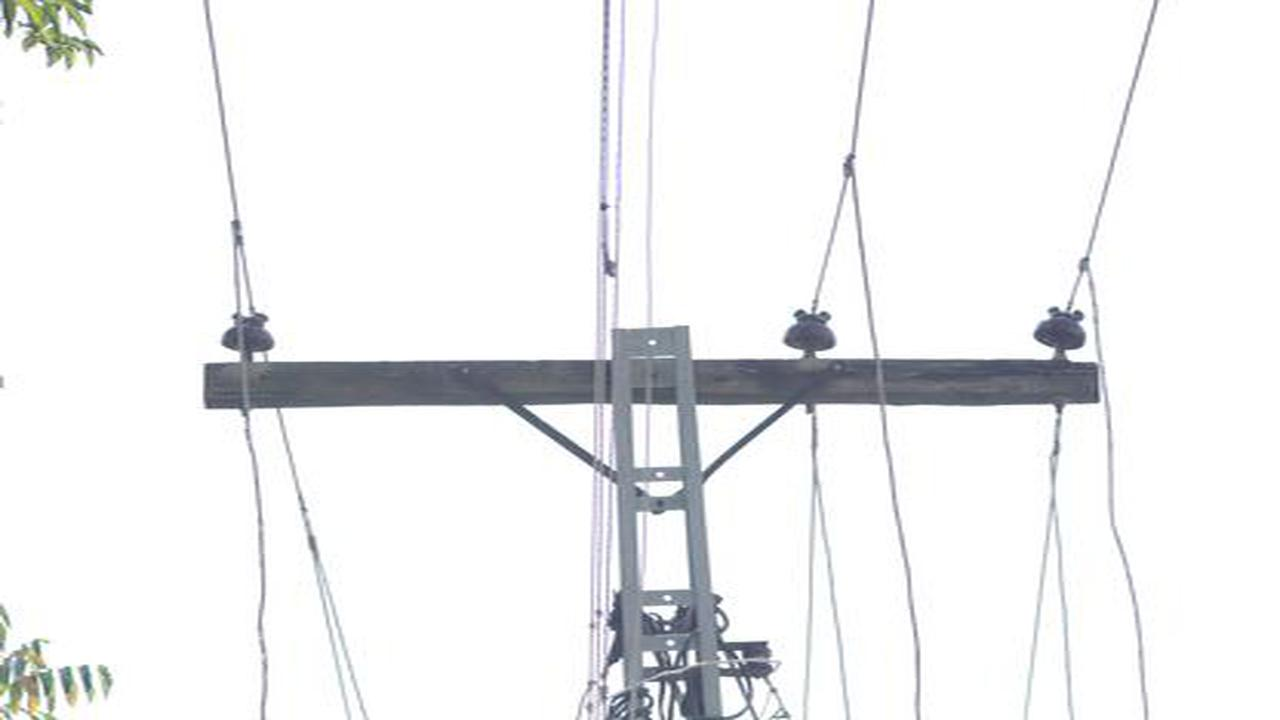insulator_pin: (1027, 301, 1090, 354), (782, 305, 842, 352), (221, 308, 276, 358)
